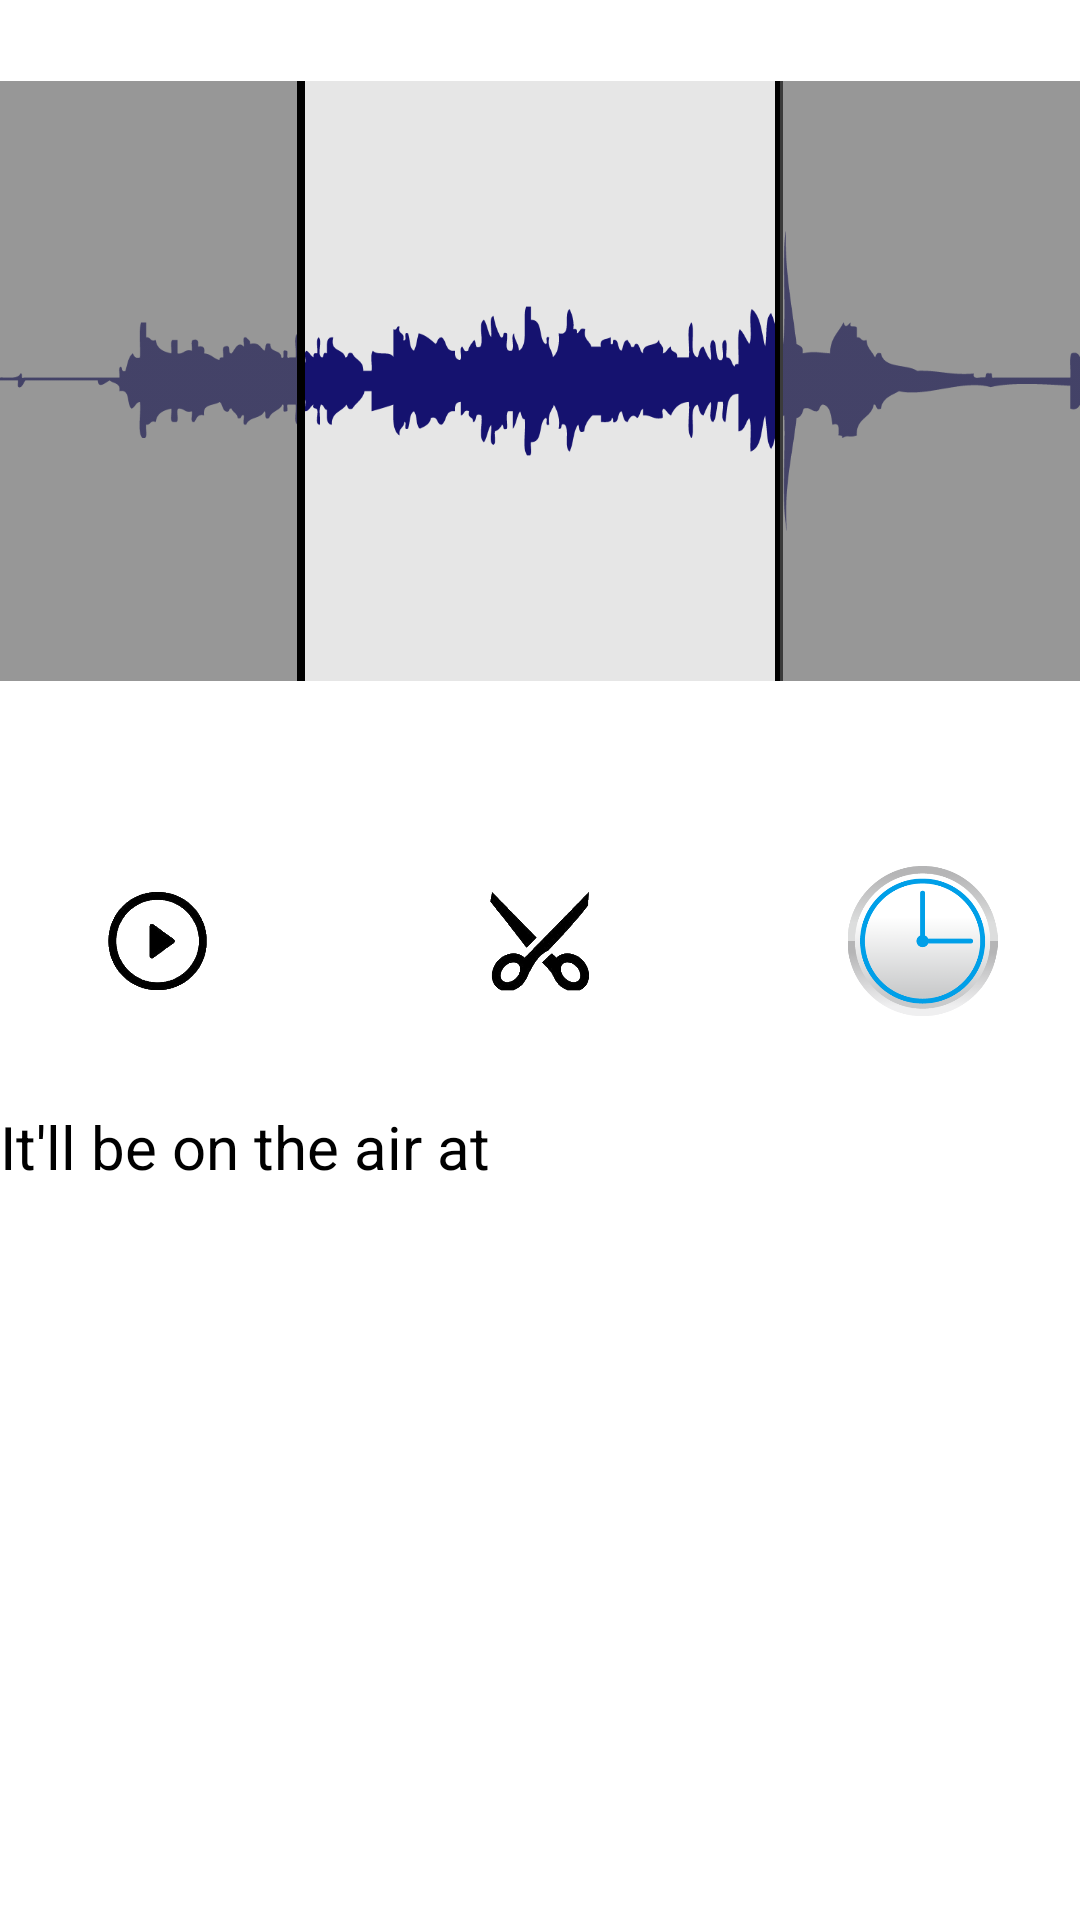

Named icons in this screenshot (1080*1920) and their centers, (x=x, y=y):
cut: (x=539, y=941)
play: (x=157, y=941)
set time: (x=923, y=937)
